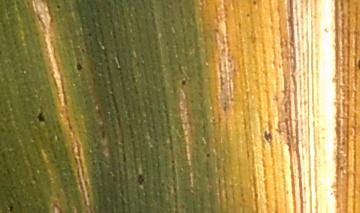tarspot: (262, 128, 274, 146), (34, 110, 48, 125), (5, 201, 16, 213), (136, 172, 145, 186), (75, 61, 84, 73), (54, 3, 62, 12), (180, 77, 188, 86), (204, 151, 212, 159), (80, 46, 86, 54), (87, 31, 93, 37)
